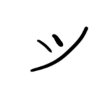shi: (27, 23, 91, 77)
